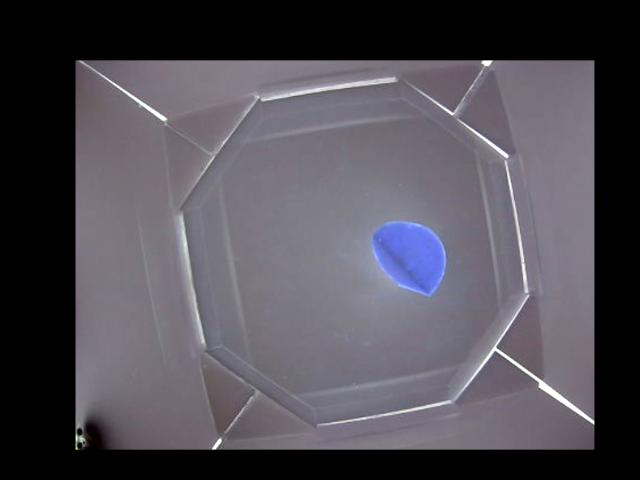Potato: (373, 220, 446, 295)
